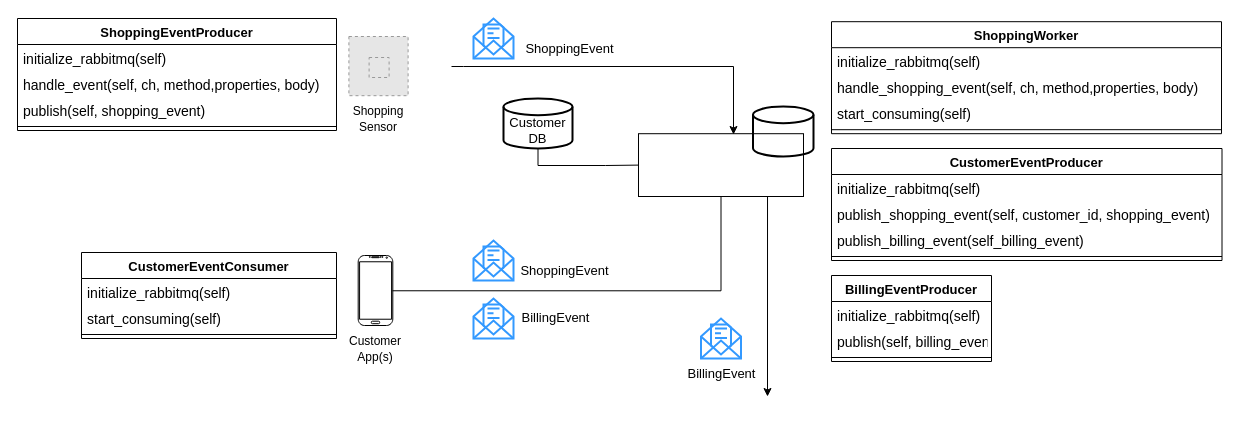
The diagram is 1240 pixels wide and 422 high, and some of its shapes have lost their labels. Grey dashed boxes stand in for pictures. The centre of each missing label's shape, as x and y in pixels:
"InMemory State" goes at point (783, 131).
"Shopping Worker" goes at point (721, 164).
